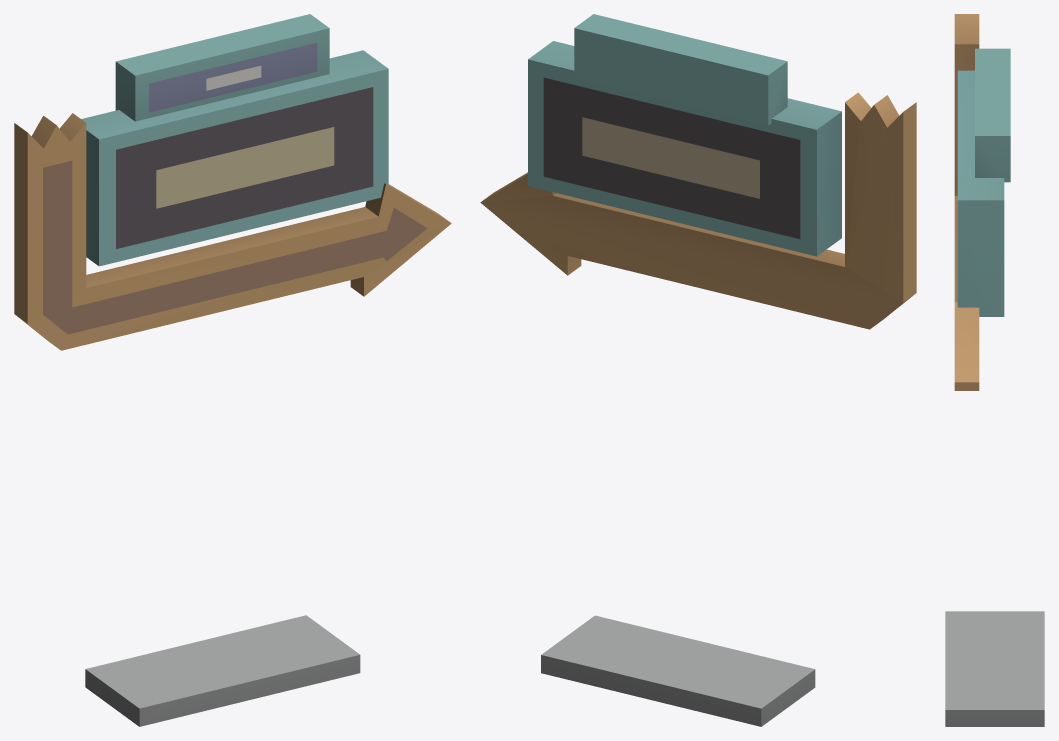
The model's file is dsign.lod2.glb.
3 renders of one model, left to right at view 1: azimuth 30°, elevation 25°; view 2: azimuth 150°, elevation 25°; view 3: azimuth 270°, elevation 25°, orthographic. The views are drawn at different scales.
Size of the model in its own units: 2.9 by 4.16 by 0.6401.
